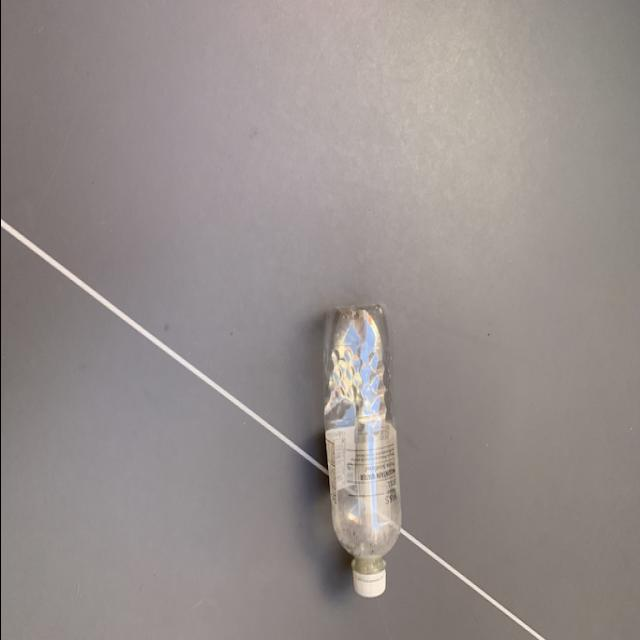litter: (320, 304, 406, 598)
